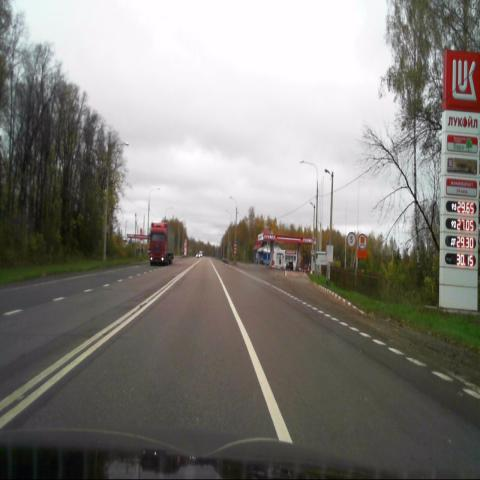3_24: (346, 232, 356, 248)
3_32: (357, 233, 367, 249)
